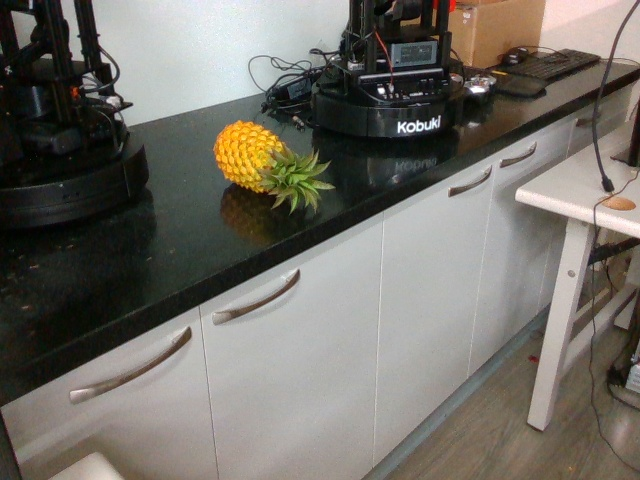pineapple: (210, 117, 340, 213)
